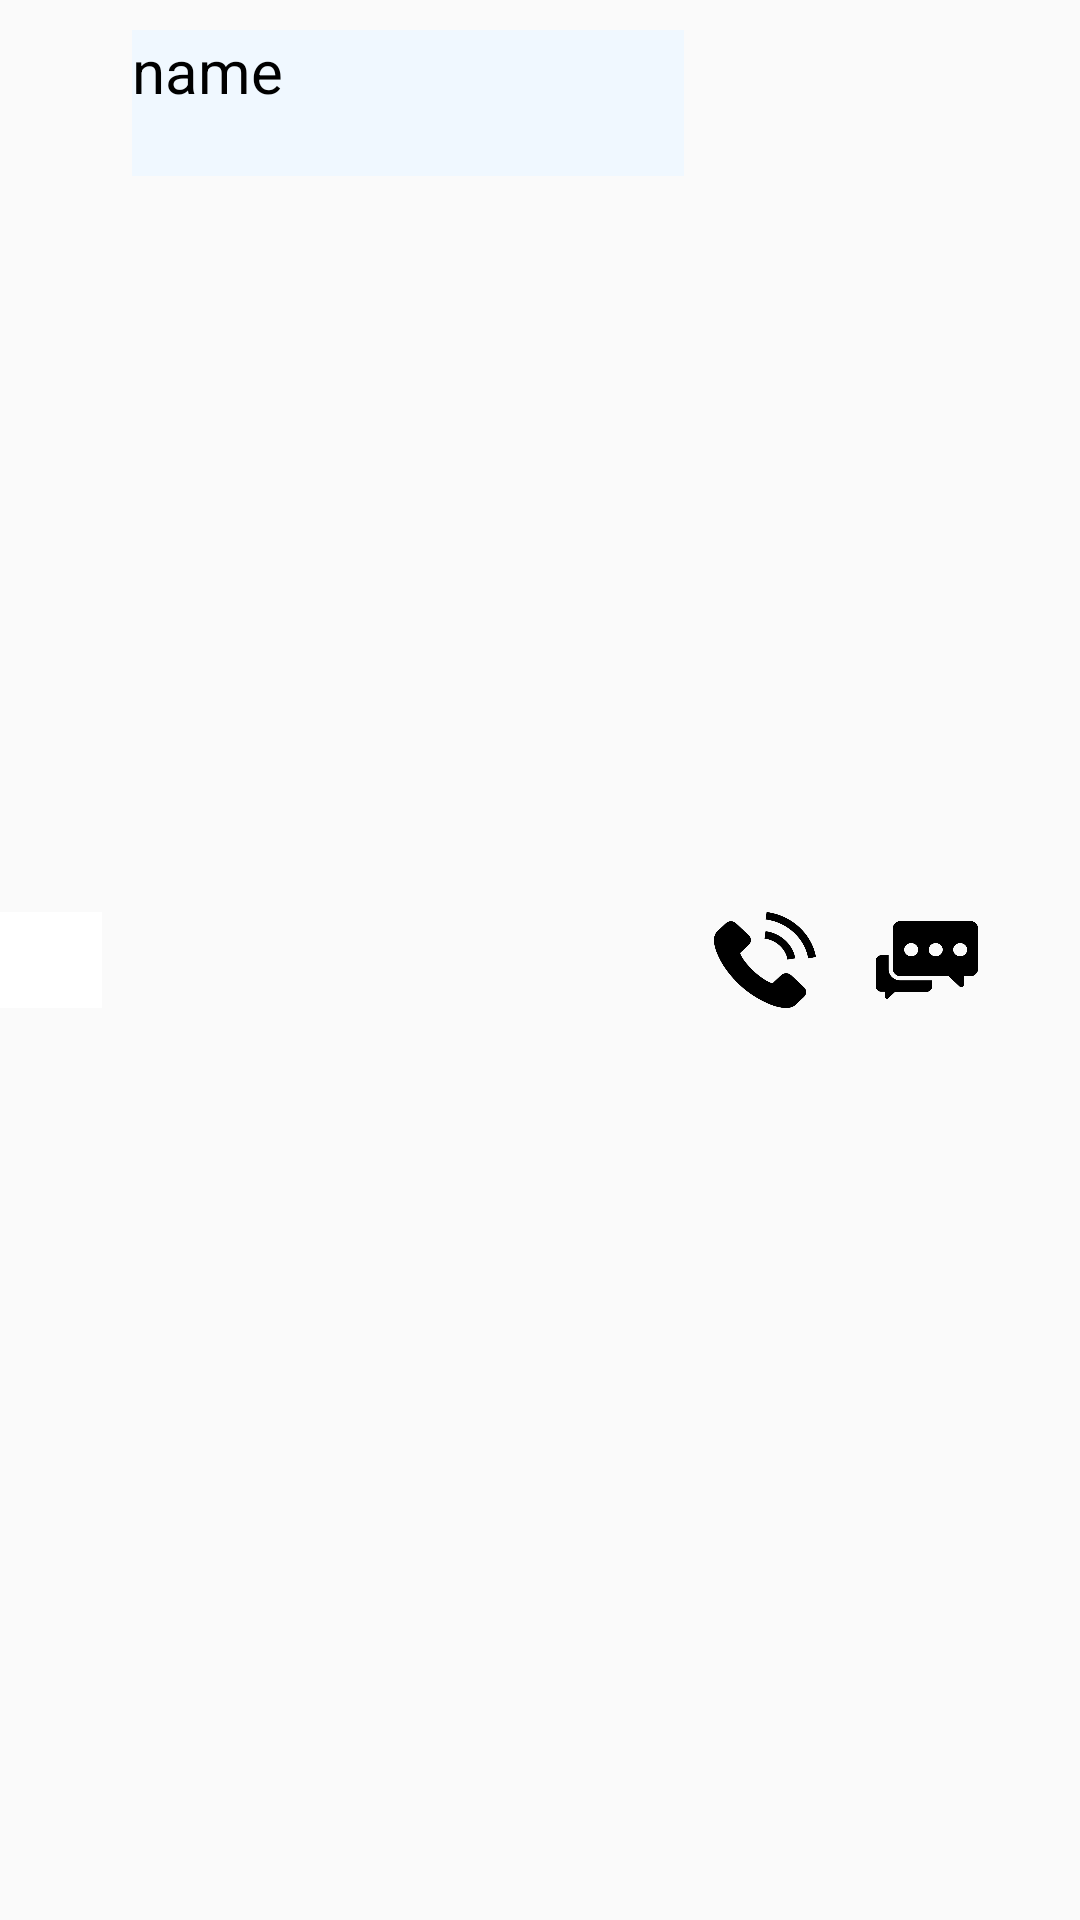

Screen size 1080 x 1920. Icon name, then its box in pixels as (x1, y1, x2, y2):
message: (876, 921, 978, 999)
phone: (714, 912, 816, 1008)
